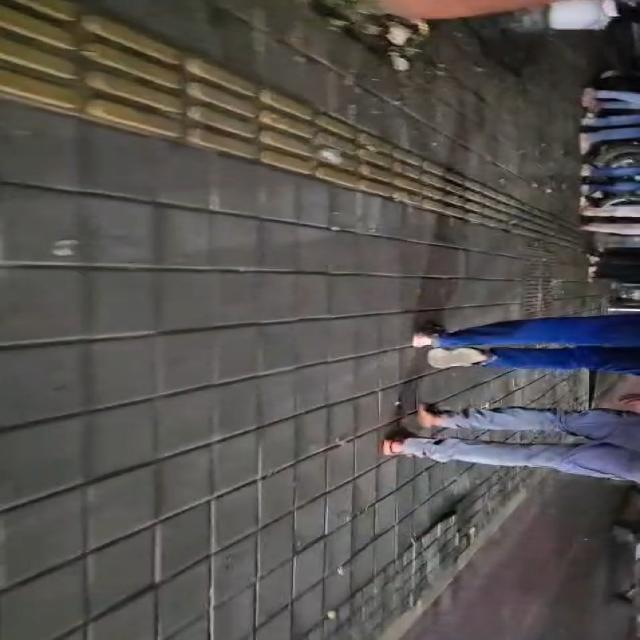person: (383, 406, 639, 482), (413, 314, 639, 374), (582, 223, 639, 235)
